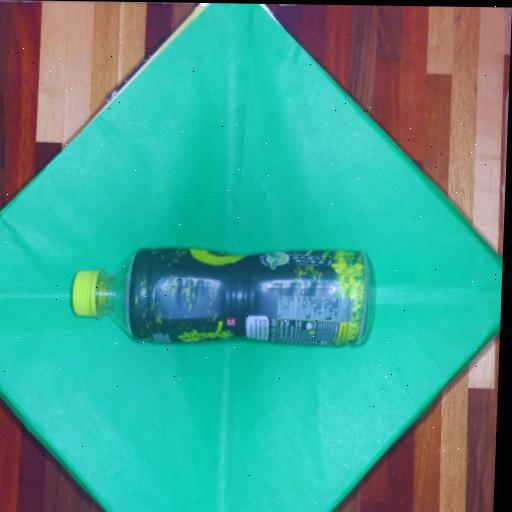bottle: (72, 243, 376, 348)
